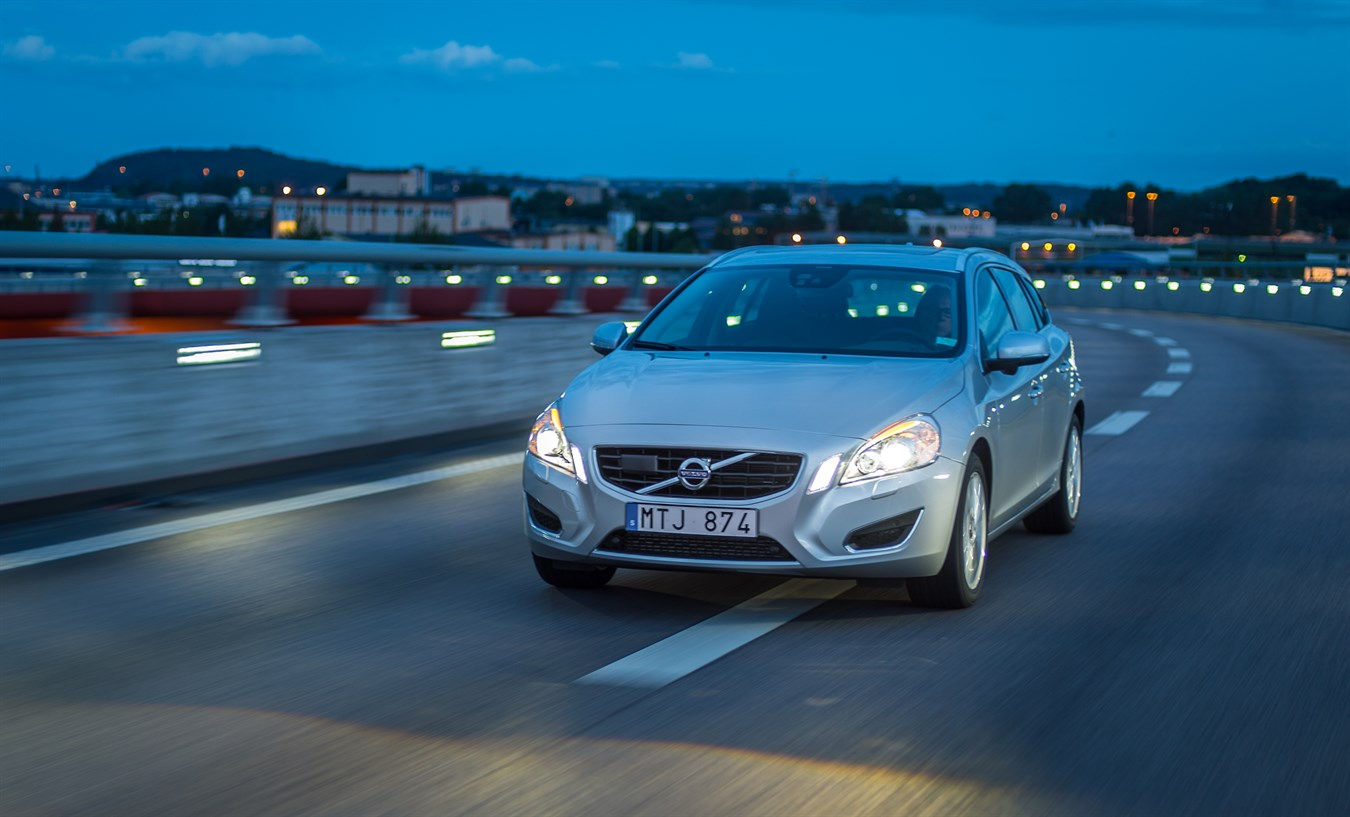other: (525, 233, 1090, 598)
